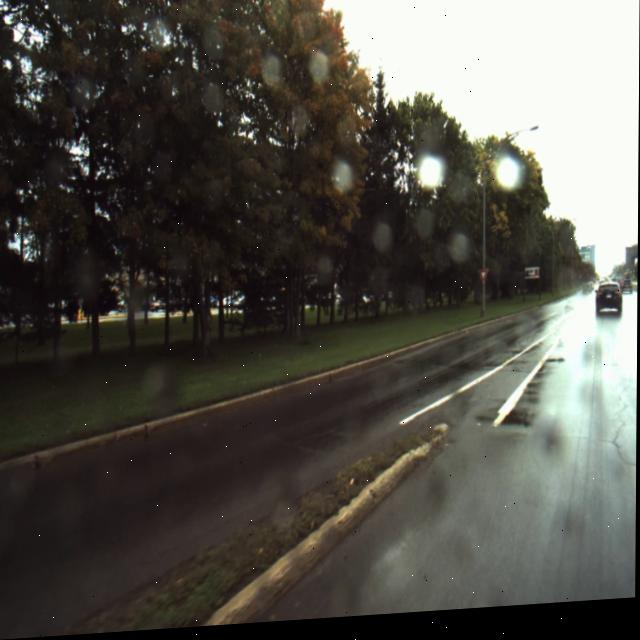car: (596, 290, 624, 328), (620, 287, 634, 304)
